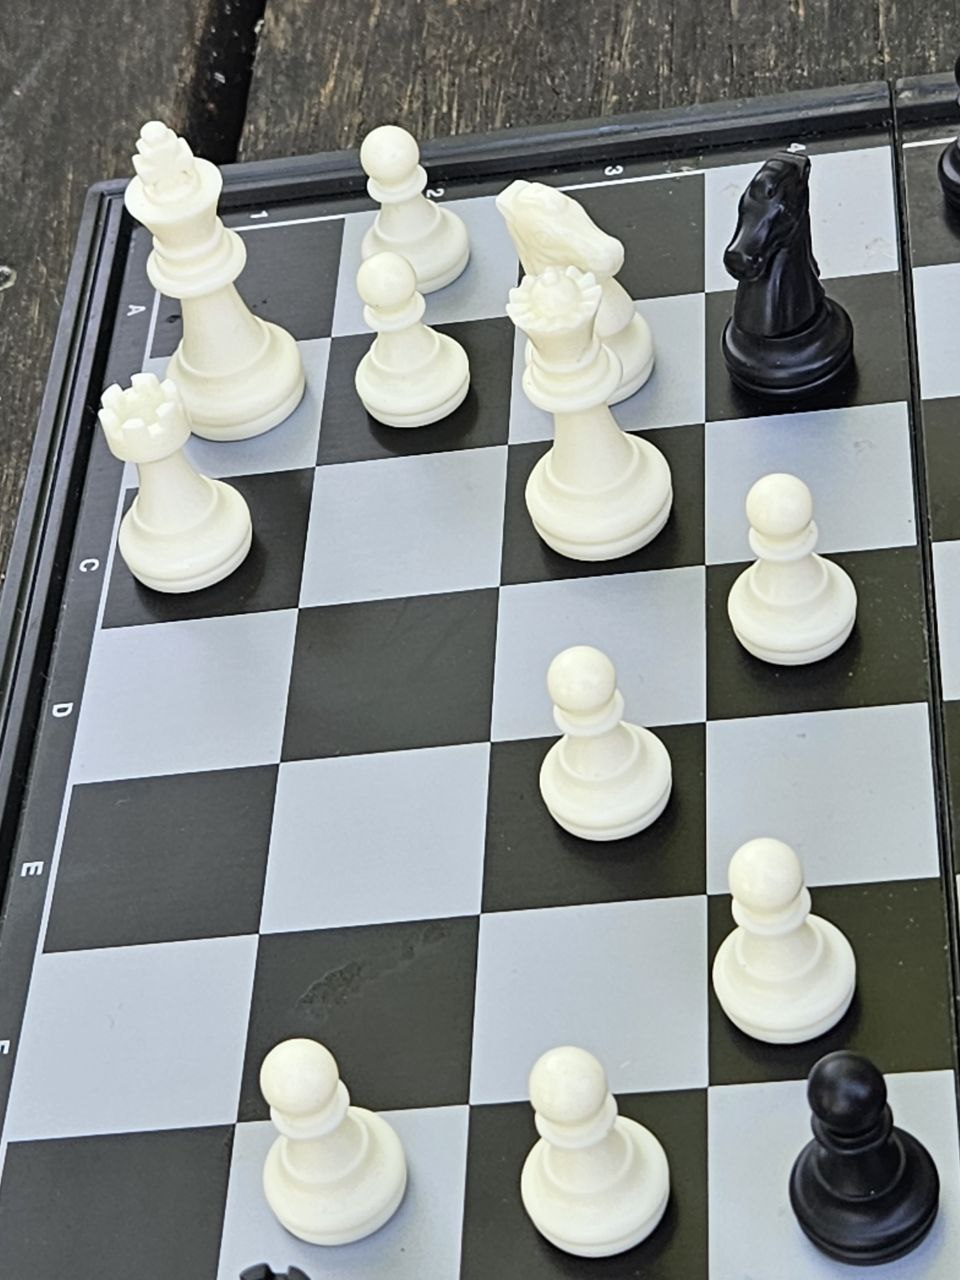BN: (687, 143, 890, 415)
BP: (773, 1043, 960, 1255)
WK: (94, 109, 307, 424)
WN: (495, 163, 674, 415)
WP: (233, 1017, 434, 1252), (495, 1038, 692, 1272), (707, 808, 872, 1045), (520, 632, 689, 857), (339, 250, 496, 442), (722, 472, 860, 683), (339, 114, 485, 287), (353, 120, 472, 283)
WQ: (508, 252, 667, 592)
WR: (70, 367, 278, 605)
